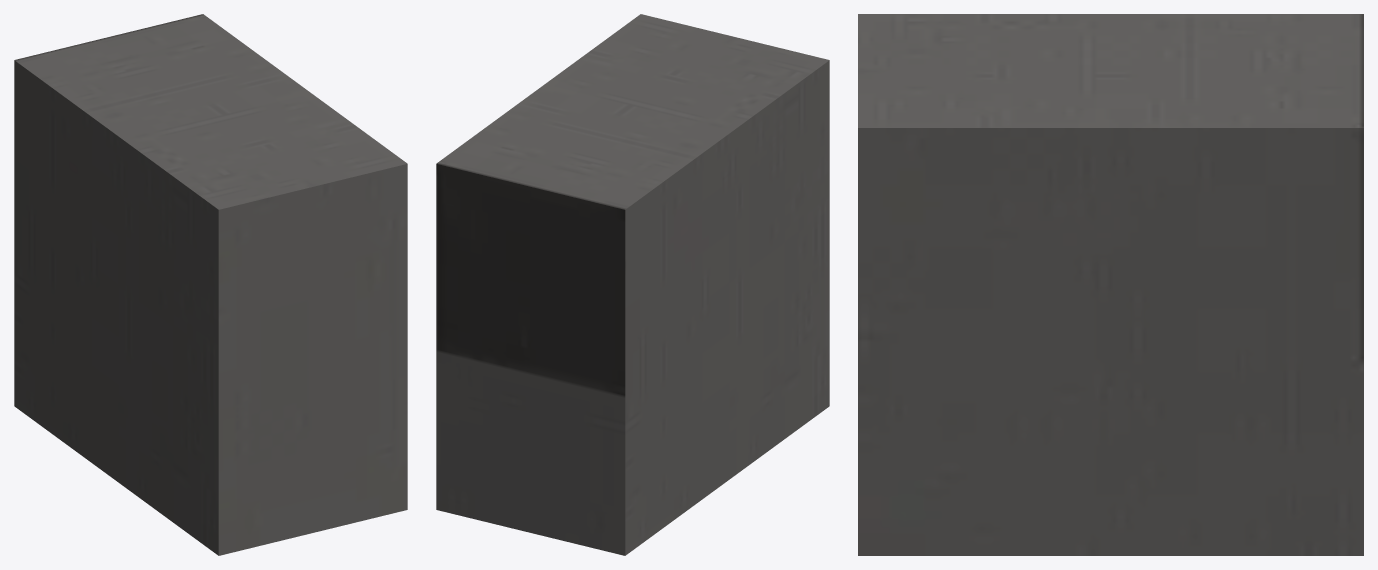
Rendered from frame__rear_riser.glb.
3 renders of one model, left to right at view 1: azimuth 30°, elevation 25°; view 2: azimuth 150°, elevation 25°; view 3: azimuth 270°, elevation 25°, orthographic. The views are drawn at different scales.
Visible parts, largest first — view 1: world; view 2: world; view 3: world.
Part boxes in pixels (box(x1,y1,x2,y2)): world: box(14, 14, 407, 555); world: box(436, 14, 829, 555); world: box(858, 14, 1363, 555).
Bounding box in the file's own units: 0.08 × 0.14 × 0.15.
1 material, 1 textured.
